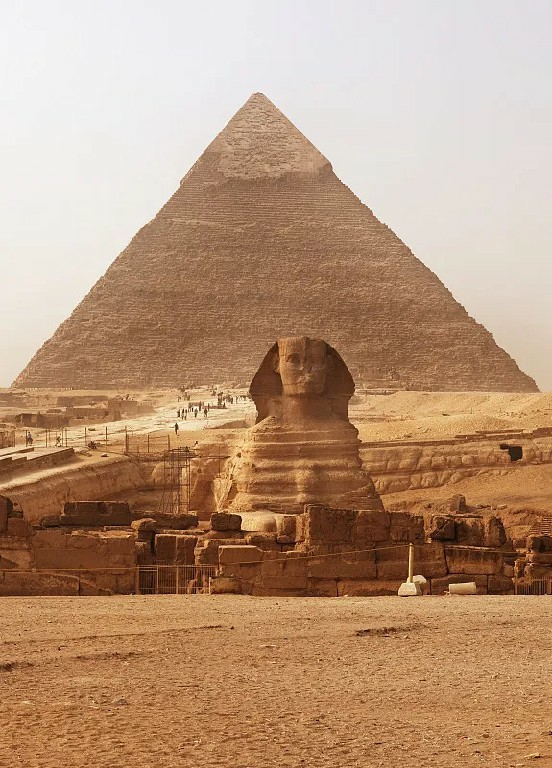Pyramid: (7, 91, 539, 393)
